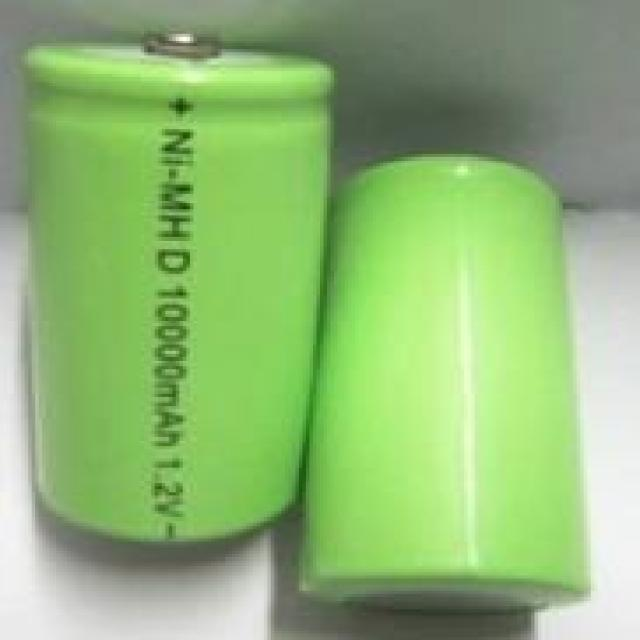-Hazardous waste - battery-: (27, 33, 333, 546), (300, 153, 590, 617)
